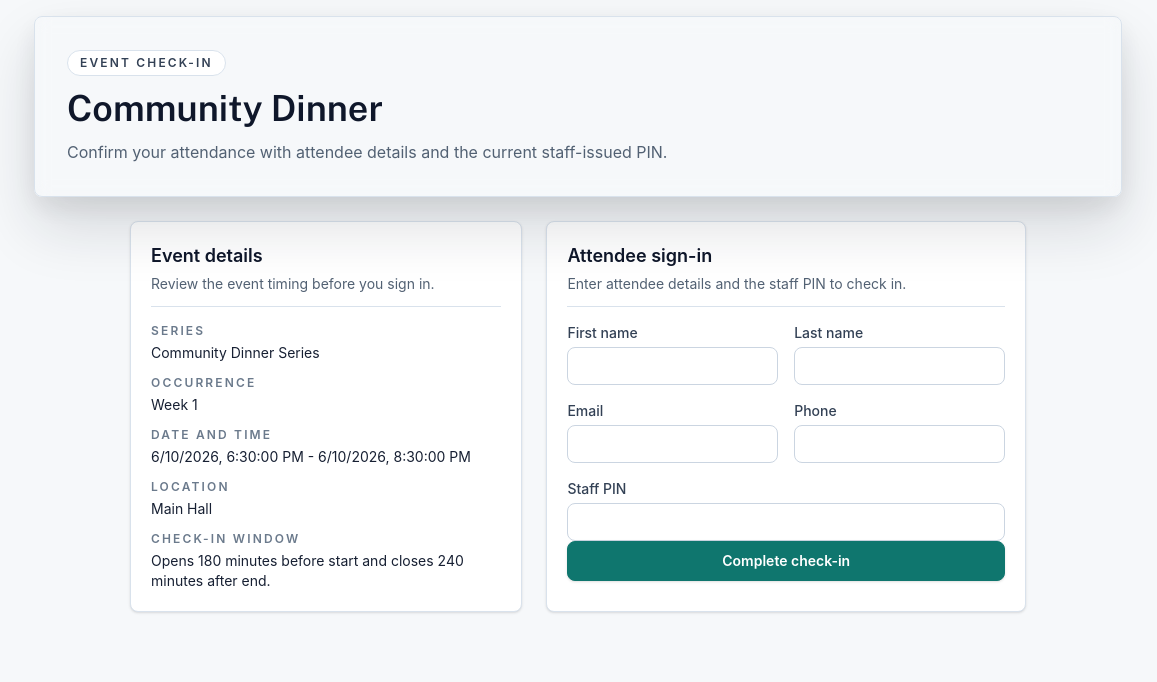
Test: PublicEventCheckInPage › submits public check-in and shows success state
The width and height of the screenshot is (1157, 682).
Check: the heading "Community Dinner" is shown, box [67,87,383,129]
Check: the text "Community Dinner Series" is shown, box [151,344,320,361]
Type "Avery" into the field labelled "First name" at (673, 366), box [567,347,778,385]
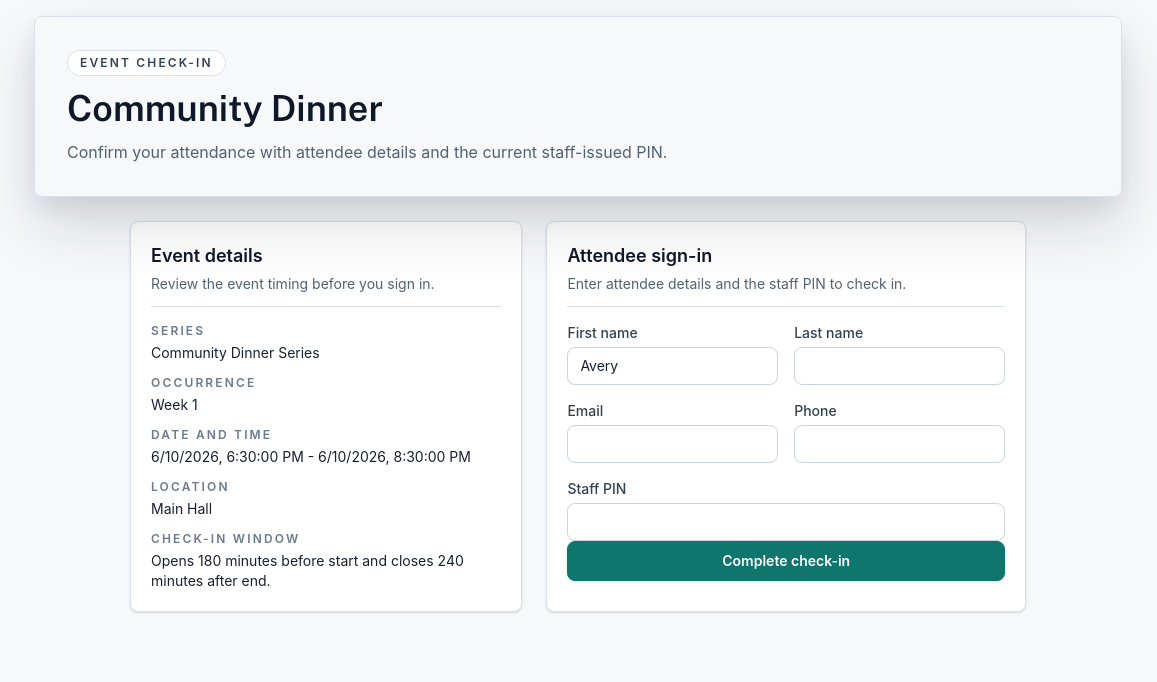
Type "Client" into the field labelled "Last name" at (900, 366), box [794,347,1005,385]
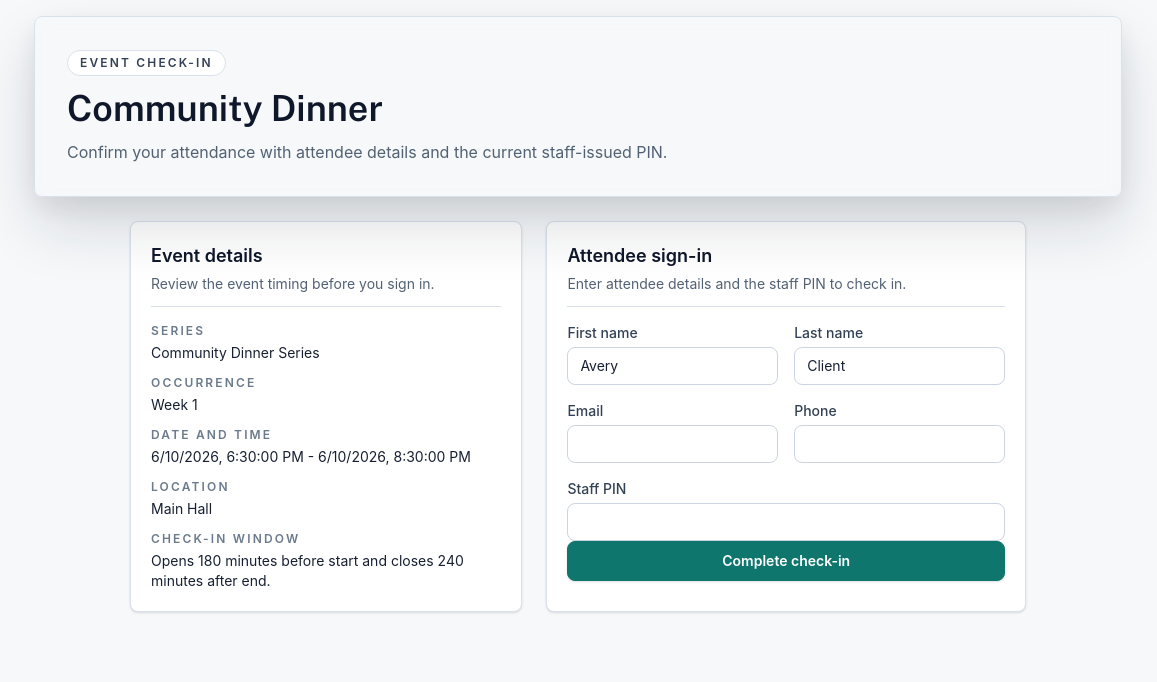
Type "avery@example.com" into the field labelled "Email" at (673, 444), box [567,425,778,463]
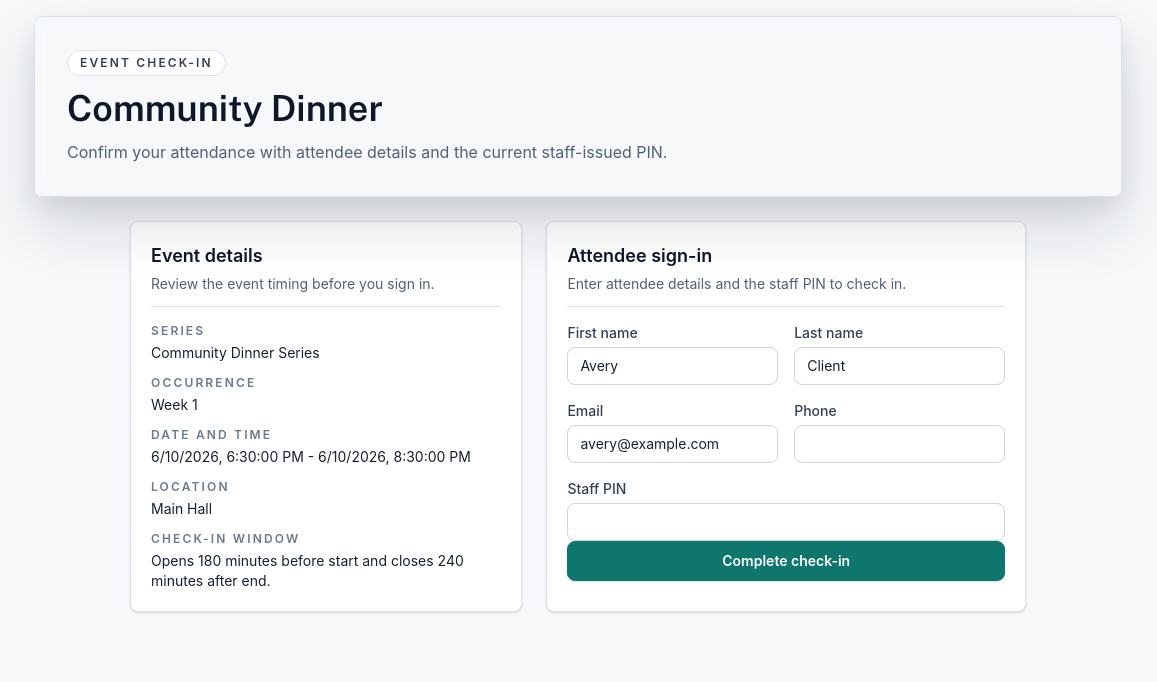
Type "123456" into the password field labelled "Staff PIN" at (786, 522), box [567,503,1005,541]
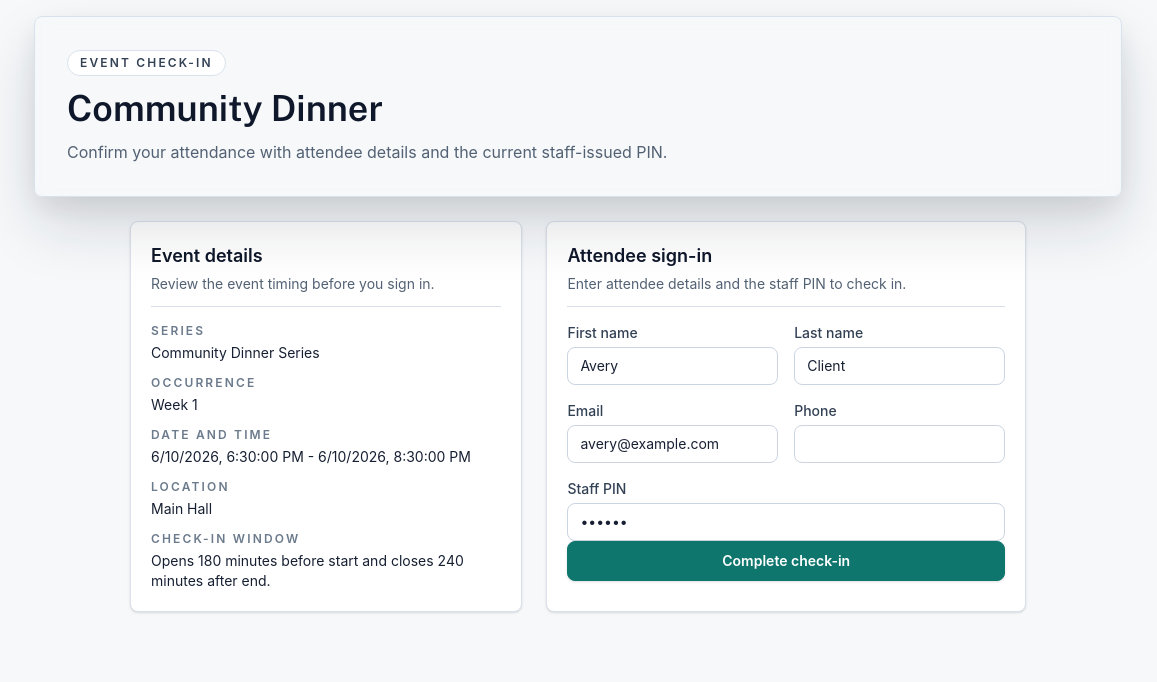
Click the button "Complete check-in" at (786, 561), box [567,541,1005,581]
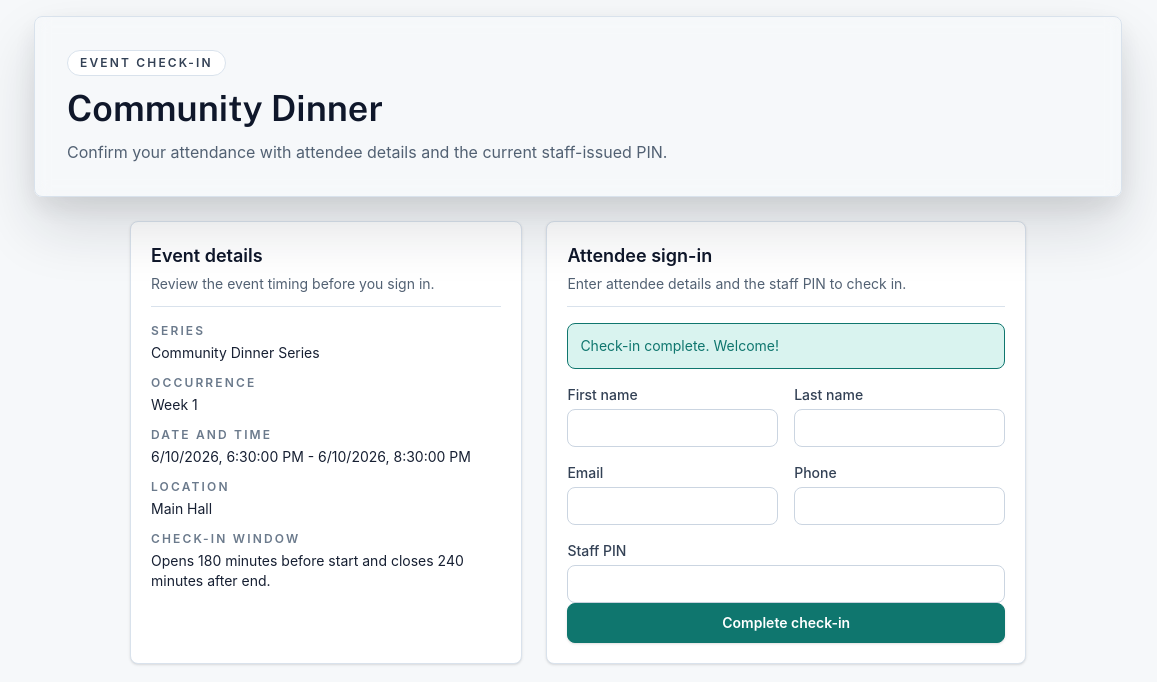
Check: the text "Check-in complete. Welcome!" is shown, box [567,323,1005,369]
